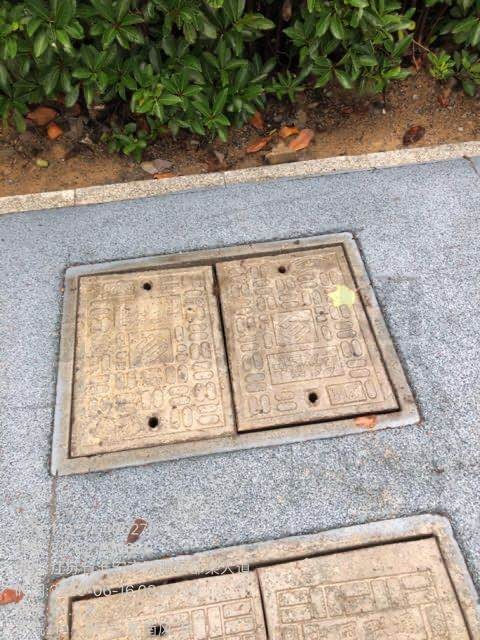good: (49, 229, 421, 475), (49, 514, 480, 640)
